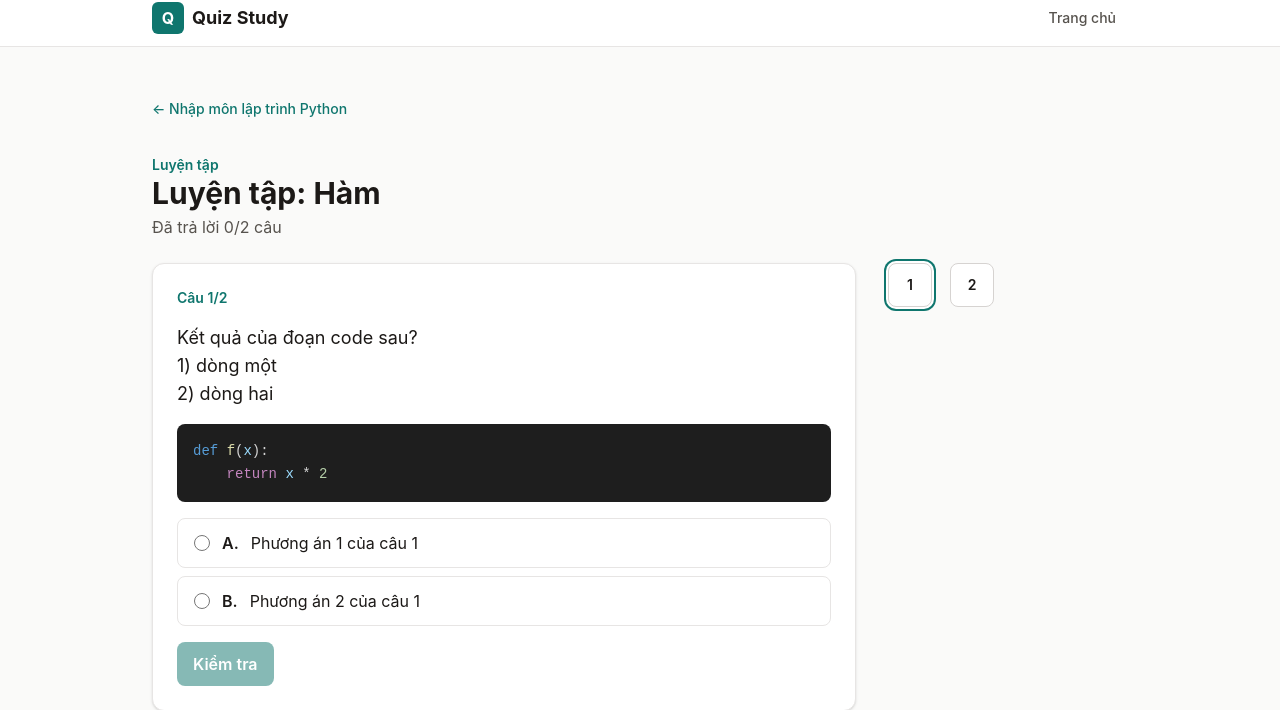
Test: AttemptPage – phím tắt › checks the picked answer with Enter, like clicking "Kiểm tra"
Click the radio button labelled "A. Phương án 1 của câu 1": click(202, 542) [194,534,210,550]
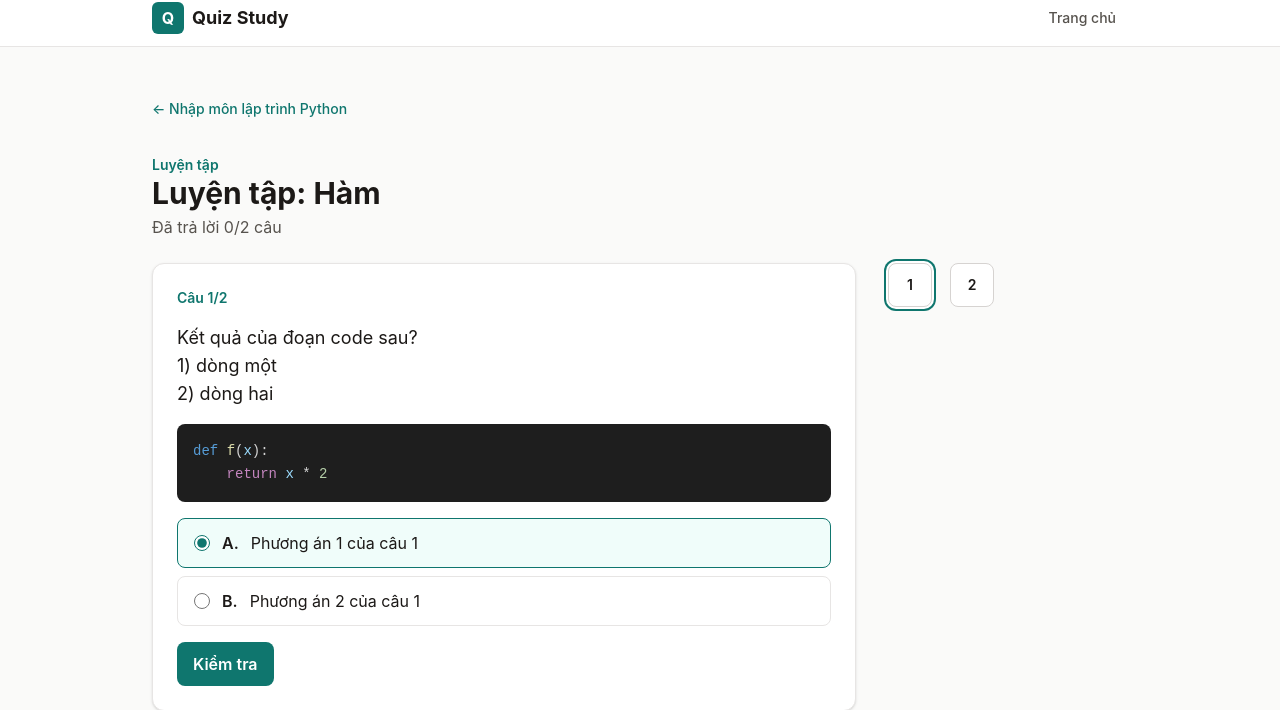
Press Enter in the radio button labelled "A. Phương án 1 của câu 1", box [194,534,210,550]
(page scrolled)
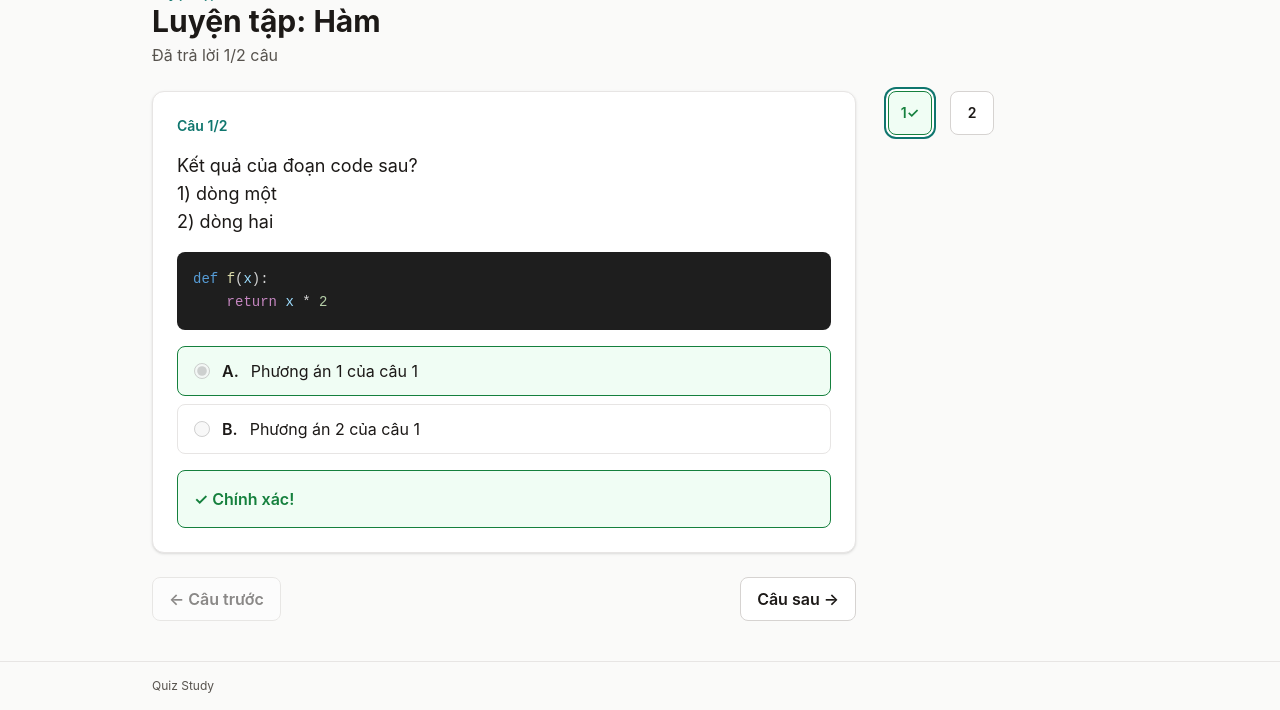
Now the message reads "✓ Chính xác!", box [194,488,294,508]
